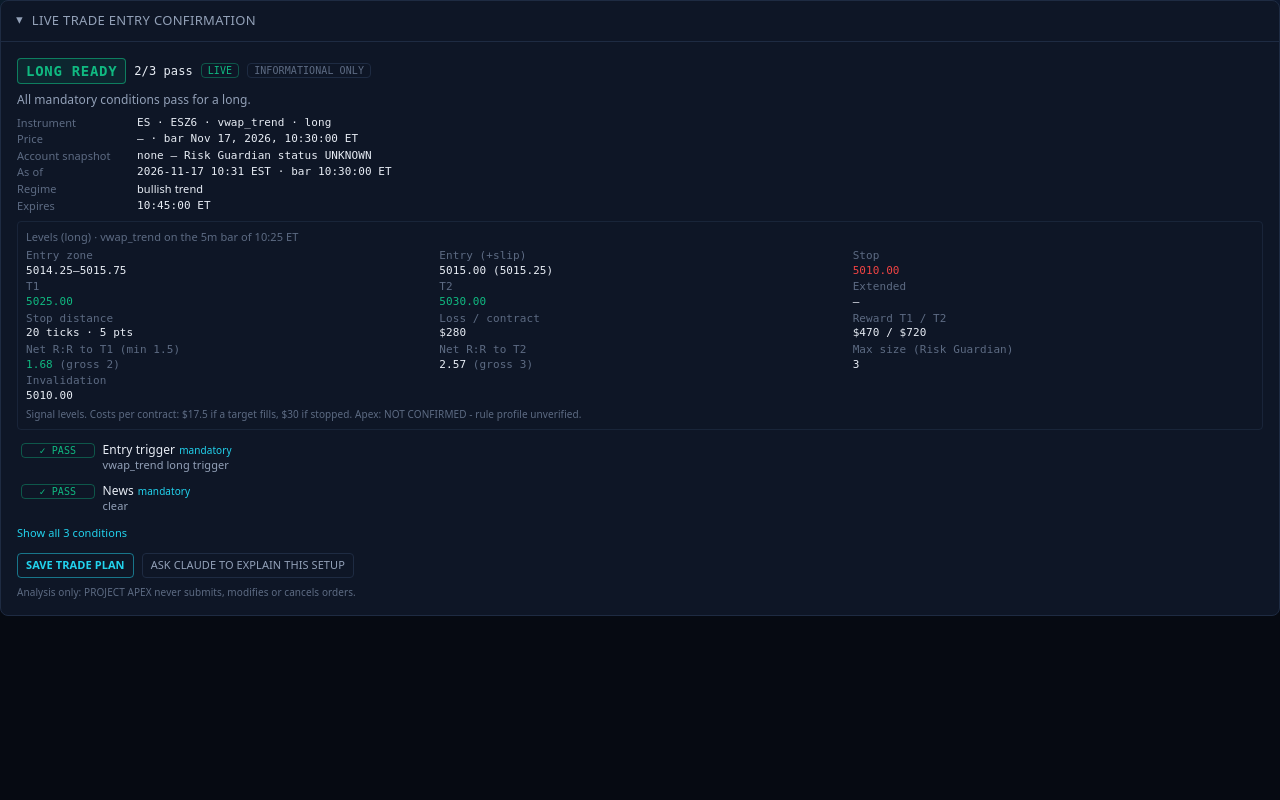
hides optional passing conditions until expanded
The image size is (1280, 800).
What coordinates should you click on to do the following:
click the button with test id "confirm-toggle-all"
I would click on:
 (72, 534)
Its box is x1=17 y1=526 x2=127 y2=541.
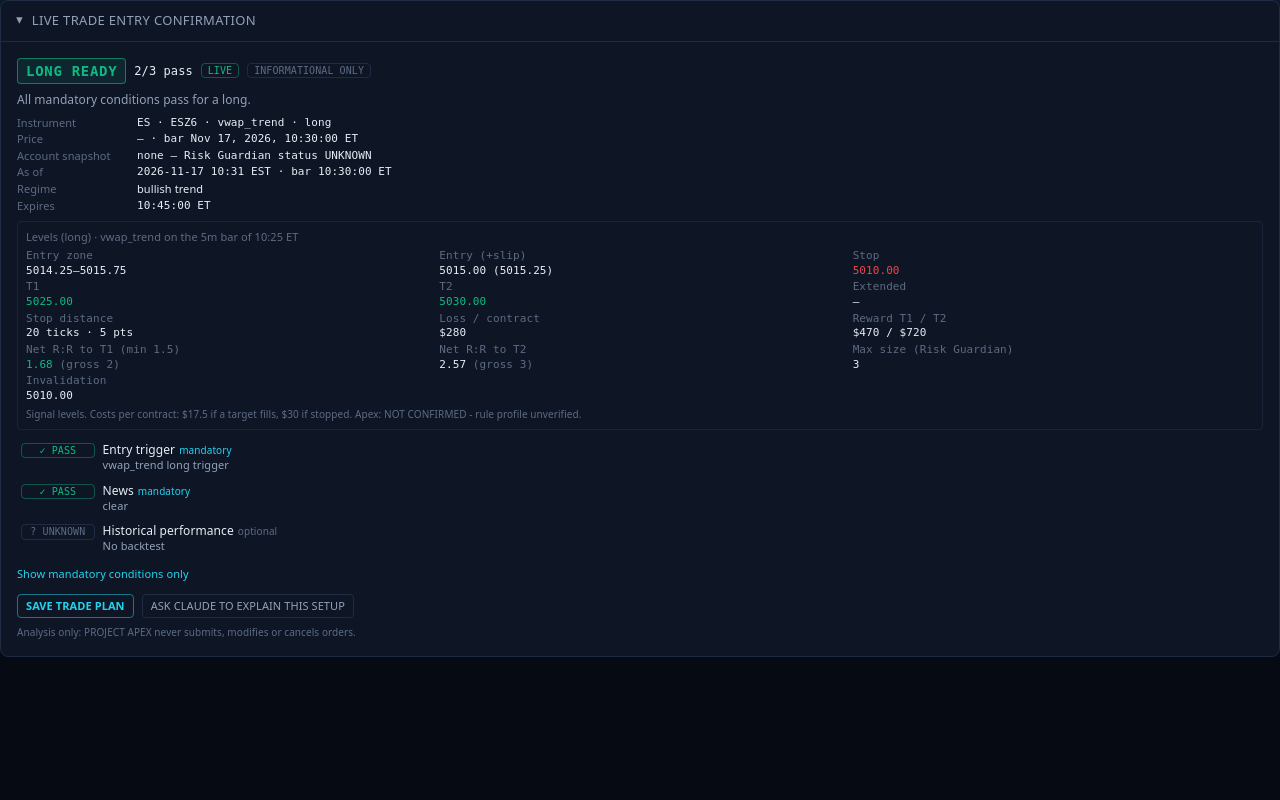
Now the button with test id "confirm-history" shows "optional", box x1=17 y1=519 x2=1263 y2=558
